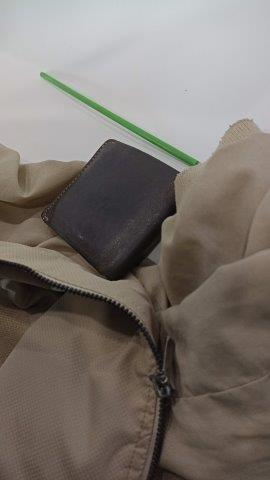sedotan: (40, 72, 198, 167)
